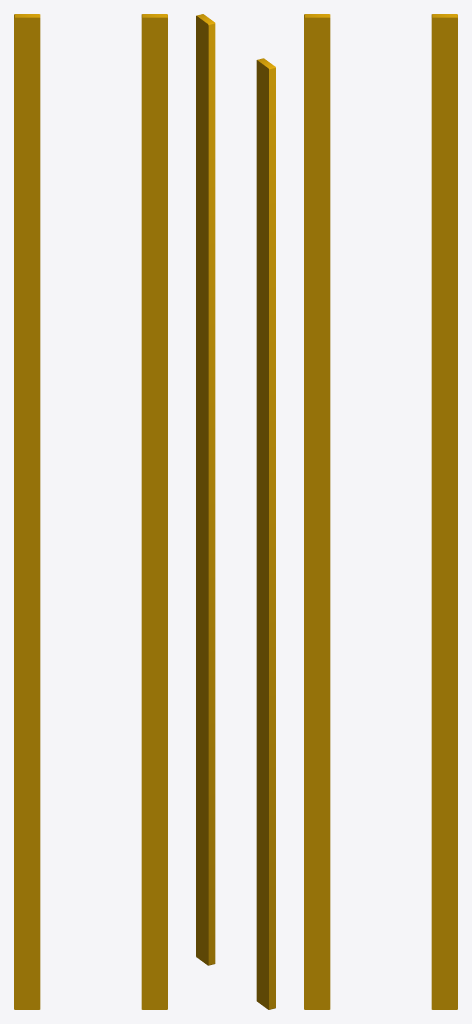
3 views of the same model, side by side, from view 1: azimuth 90°, elevation 25°; view 2: azimuth 210°, elevation 25°; view 3: azimuth 270°, elevation 25° (orthographic). The views are drawn at different scales.
Parts seen in each view (by area): view 1: TransformZUpToYUp; view 2: TransformZUpToYUp; view 3: TransformZUpToYUp.
Part boxes in pixels (box(x1,y1,x2,y2)): TransformZUpToYUp: box(14, 14, 167, 1009); TransformZUpToYUp: box(196, 14, 275, 1009); TransformZUpToYUp: box(304, 14, 457, 1009).
Size of the model in its own units: 16 by 2077 by 292.
